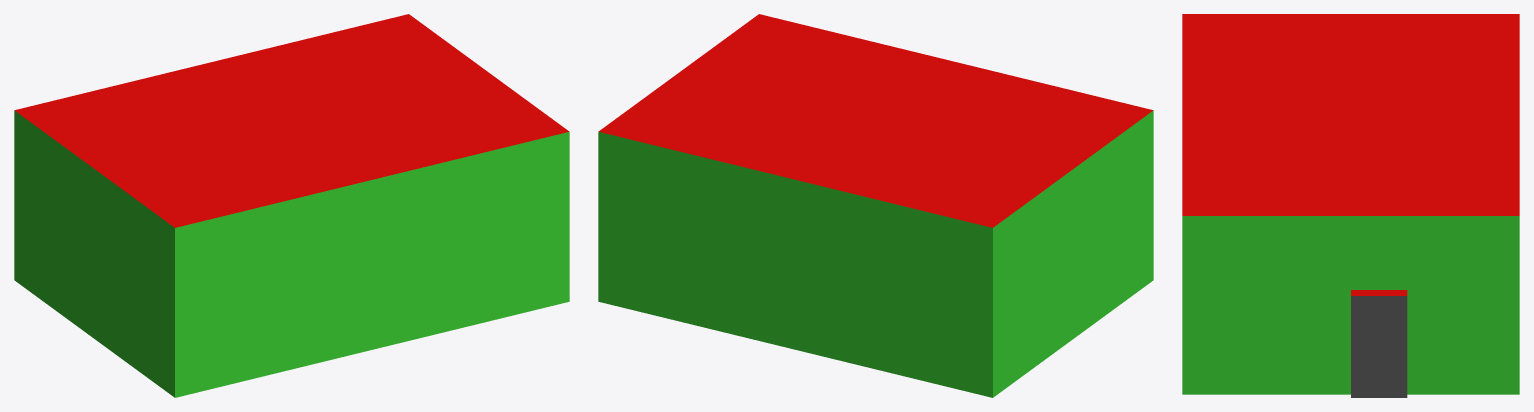
Rendered from Nursery_PlayroomMesh.gltf.
3 views of the same model, side by side, from view 1: azimuth 30°, elevation 25°; view 2: azimuth 150°, elevation 25°; view 3: azimuth 270°, elevation 25° (orthographic). The views are drawn at different scales.
Parts seen in each view (by area): view 1: Nursery_PlayroomMesh2; view 2: Nursery_PlayroomMesh2; view 3: Nursery_PlayroomMesh2.
Part boxes in pixels (bbox=[...]): Nursery_PlayroomMesh2: bbox=[14, 14, 569, 397]; Nursery_PlayroomMesh2: bbox=[598, 14, 1153, 397]; Nursery_PlayroomMesh2: bbox=[1182, 14, 1519, 397].
Size of the model in its own units: 17.5 by 7 by 12.
